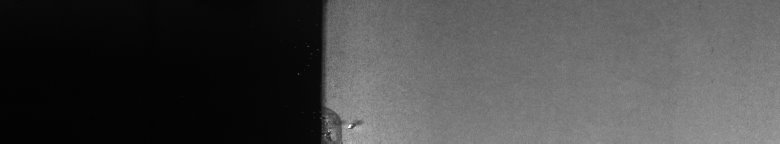hb: (332, 104, 368, 136)
